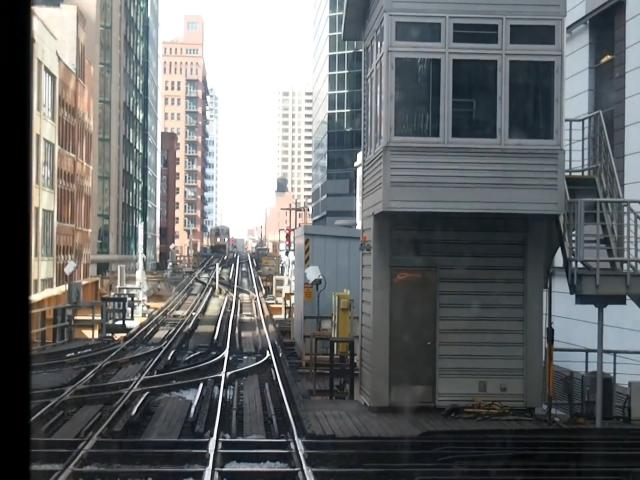signal light: (286, 227, 293, 254)
